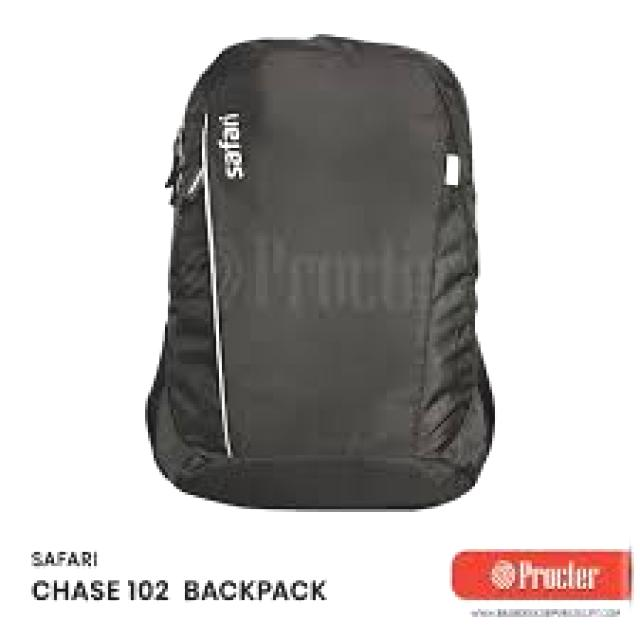backpack: (144, 32, 496, 510)
